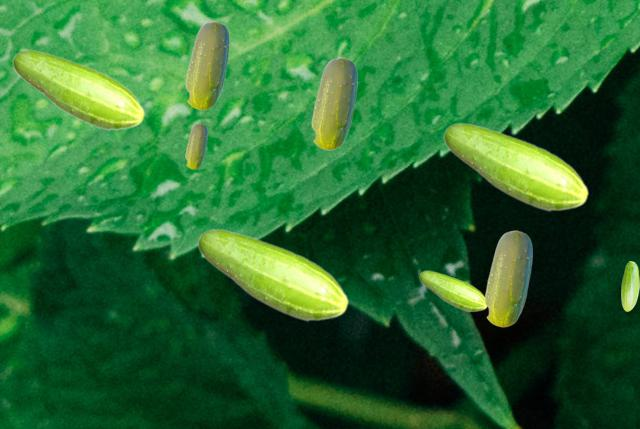cucumber: (197, 228, 348, 321), (443, 122, 588, 211), (12, 49, 144, 130), (484, 230, 531, 326), (311, 57, 356, 149), (185, 21, 228, 109), (419, 270, 486, 311), (185, 123, 206, 168), (621, 261, 638, 310)
